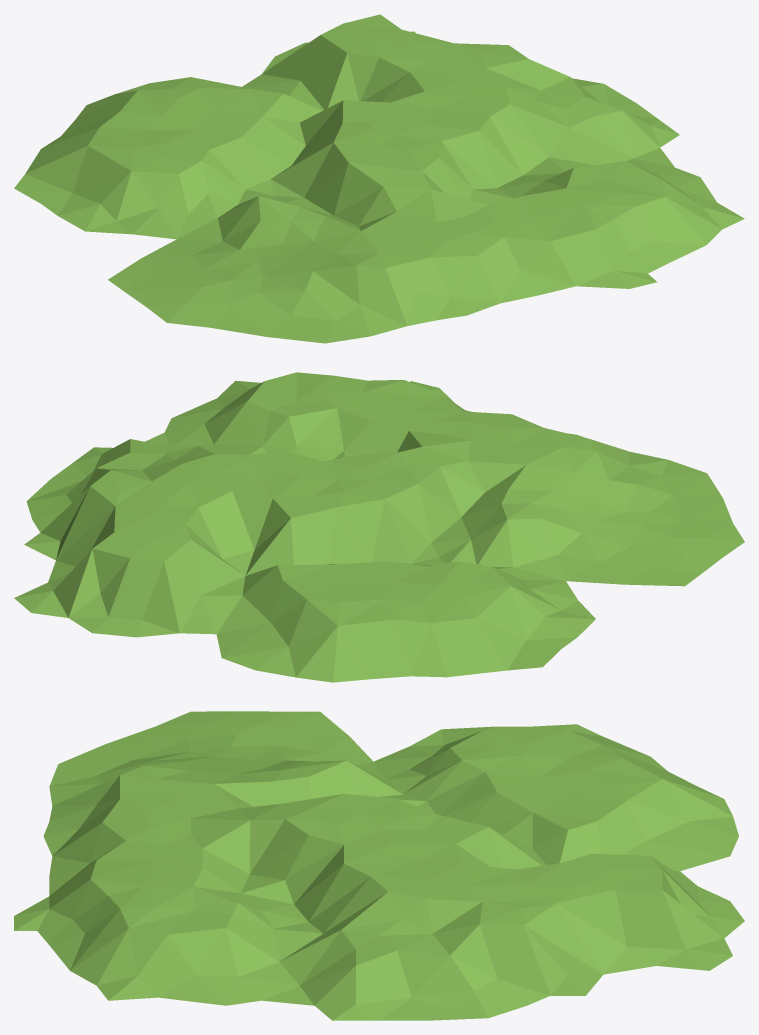
Rendered from MT_Mountain_M_c_07.fbx.
The picture shows the model from 3 angles, top to bottom: view 1: azimuth 30°, elevation 25°; view 2: azimuth 150°, elevation 25°; view 3: azimuth 270°, elevation 25°; orthographic projection. The views are drawn at different scales.
Visible parts, largest first — view 1: MT_Mountain_M_c_07; view 2: MT_Mountain_M_c_07; view 3: MT_Mountain_M_c_07.
Boxes of the visible parts, x1,y1,x2,y2 form: MT_Mountain_M_c_07: [14, 14, 744, 343]; MT_Mountain_M_c_07: [14, 372, 744, 682]; MT_Mountain_M_c_07: [14, 711, 744, 1020].
Bounding box in the file's own units: 4844 × 390 × 4844.
